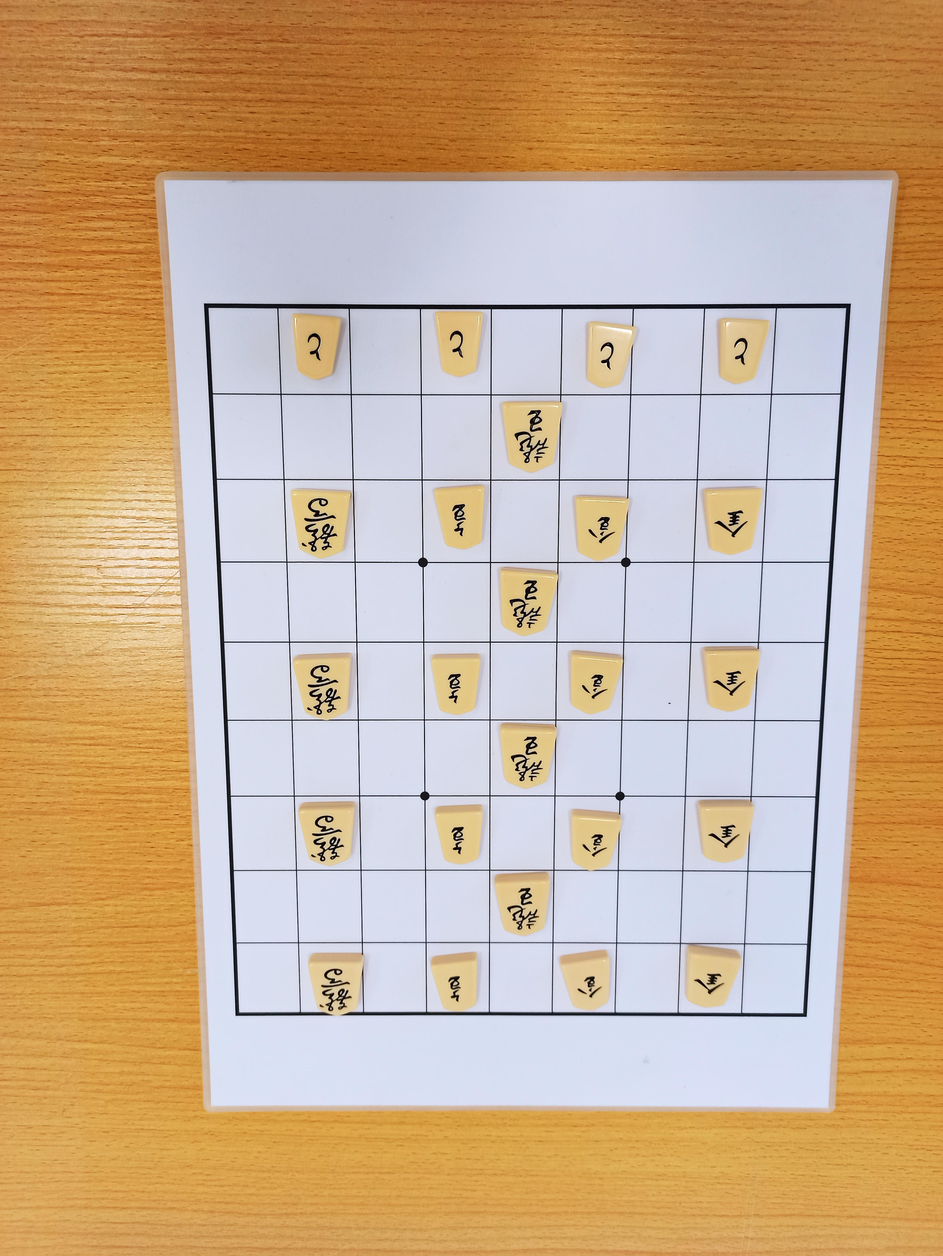board: (206, 305, 847, 1016)
